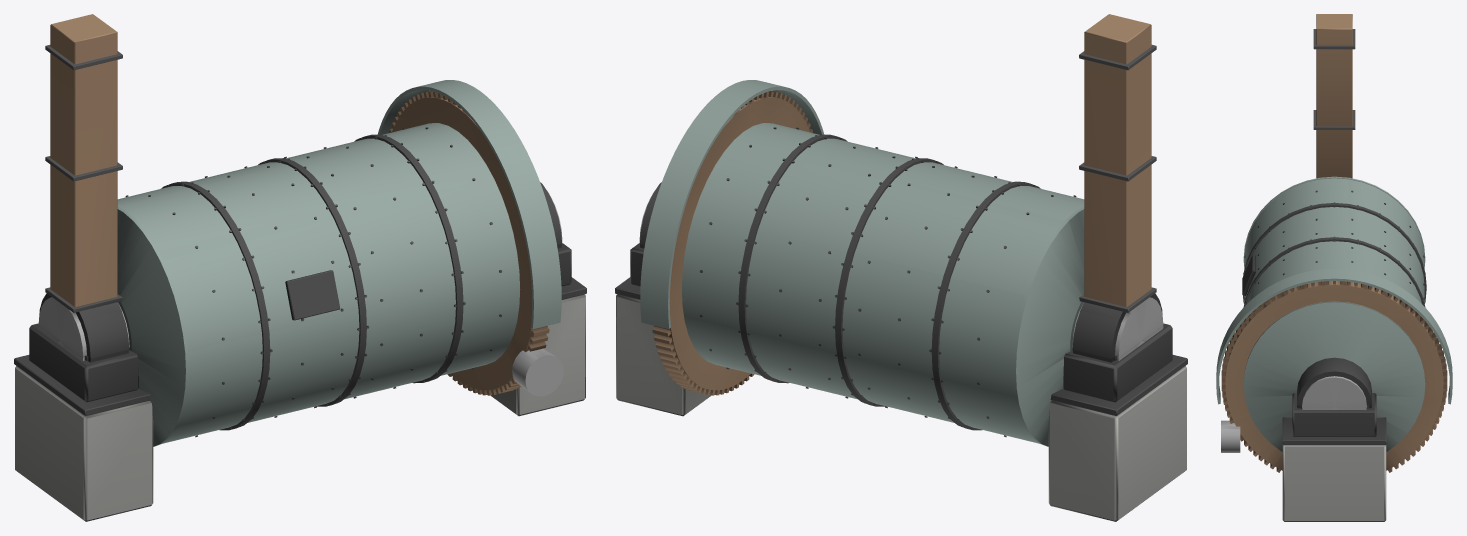
File: mill_ball_mill.glb
3 renders of one model, left to right at view 1: azimuth 30°, elevation 25°; view 2: azimuth 150°, elevation 25°; view 3: azimuth 270°, elevation 25°, orthographic. The views are drawn at different scales.
Parts seen in each view (by area): view 1: static; view 2: static; view 3: static.
Boxes of the visible parts, x1,y1,x2,y2 form: static: (14,14,586,521); static: (615,14,1187,521); static: (1216,14,1452,521).
Size of the model in its own units: 6.5 by 5.7 by 3.64.
